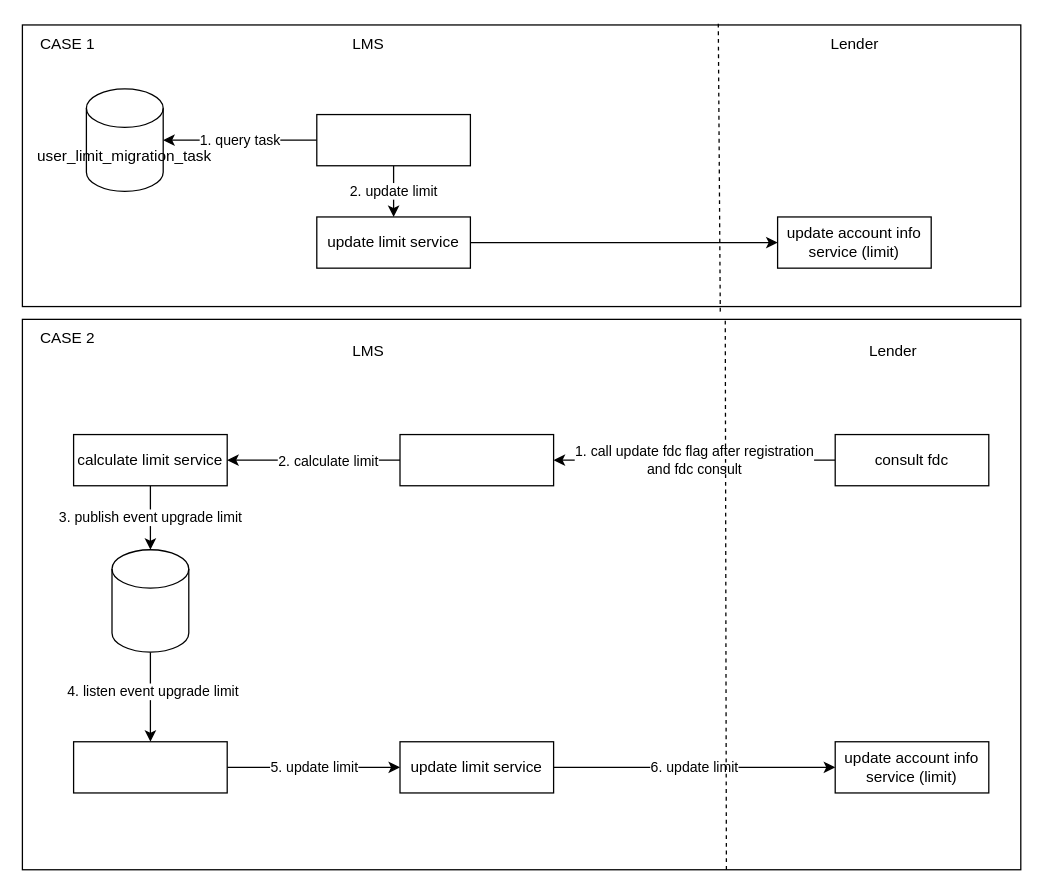
Some shapes in this 1043 by 893 pixel diagram are drawn without their labels. The centre of each missing label's shape, as x and y in pixels:
"limit migration sceduler" belongs at point 393,139.
"message broker" belongs at point 150,600.
"update account info service (fdc flag)" belongs at point 476,459.
"update limit handler" belongs at point 149,766.
